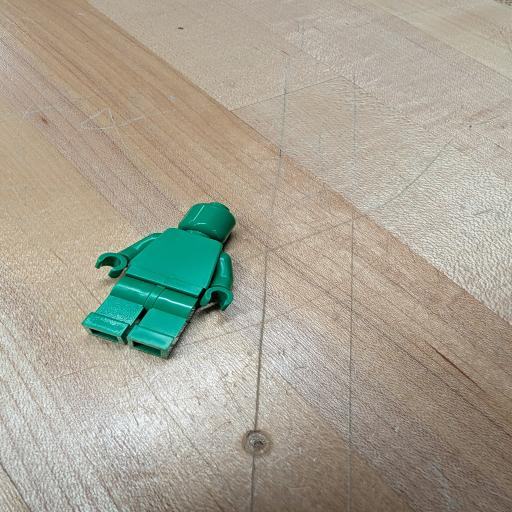Minifig: (82, 202, 235, 358)
